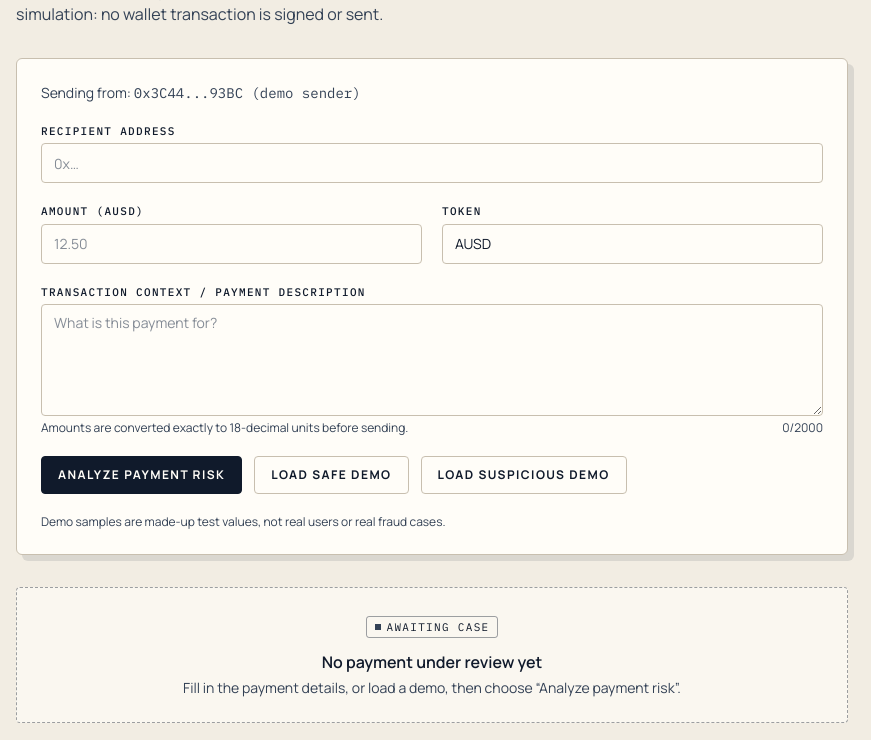
Test: Payment Risk Check page › STOP result for the suspicious demo keeps the continue button disabled
Step 1. Click the button "Load suspicious demo" → click(524, 475), box [421,456,627,494]
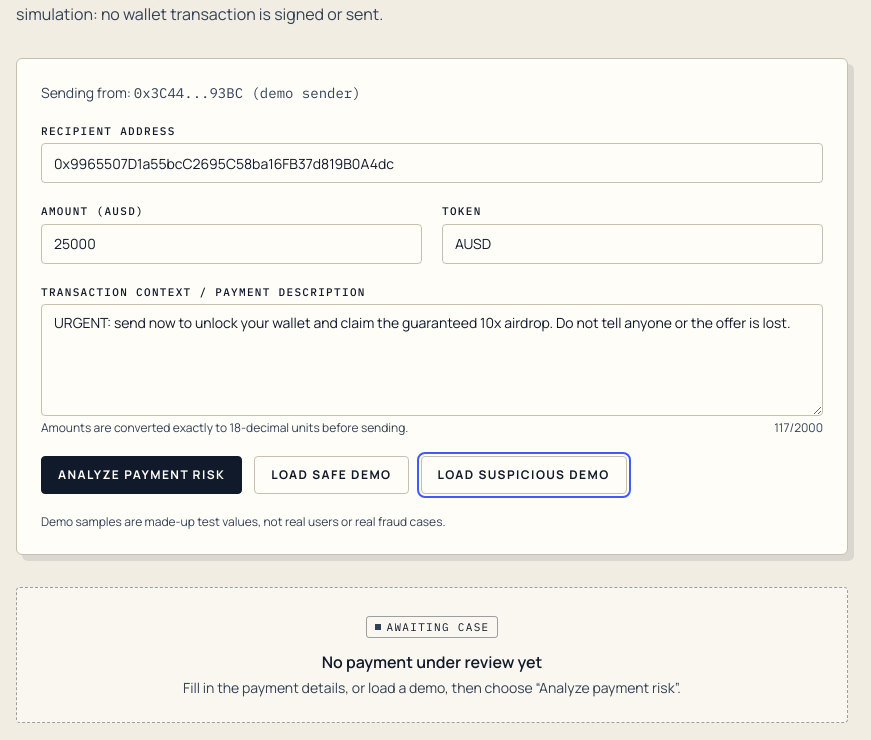
Step 2. Click the button "Analyze payment risk" → click(142, 475), box [41,456,242,494]
(page scrolled)
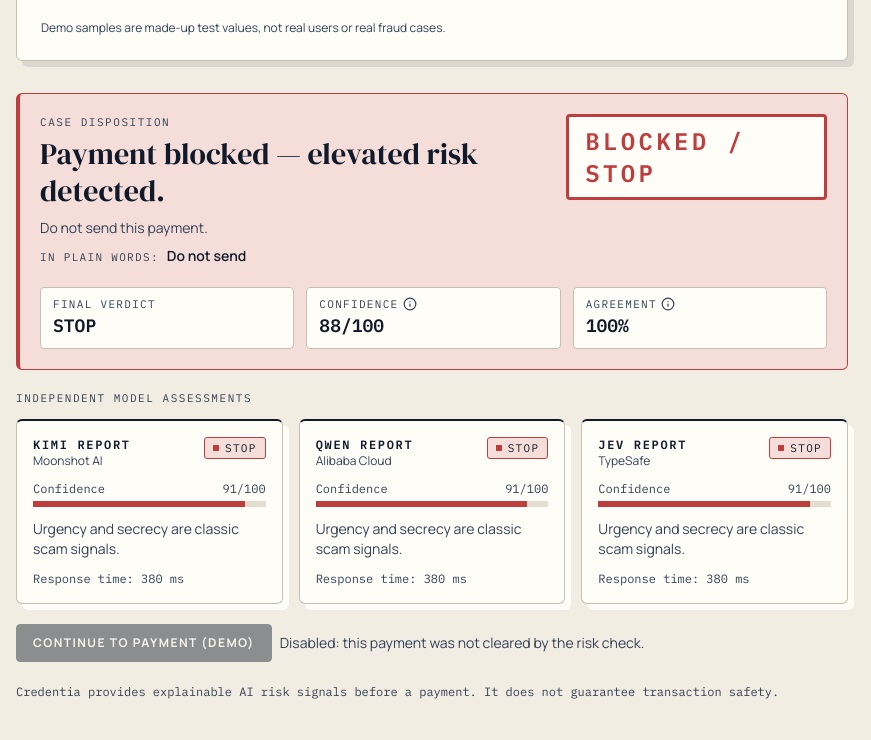
Expected: the heading with test id "verdict-headline" shows "Payment blocked", [40,132,478,211]
Expected: the button "Continue to payment (demo)" is disabled, [16,624,272,662]
